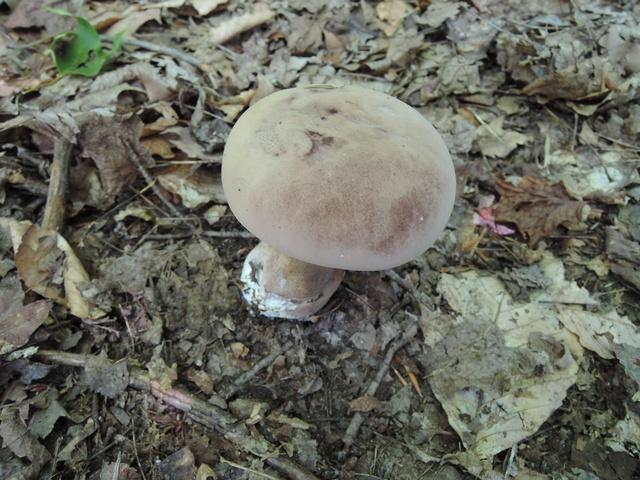poisonous_mushroom: (219, 83, 457, 320)
